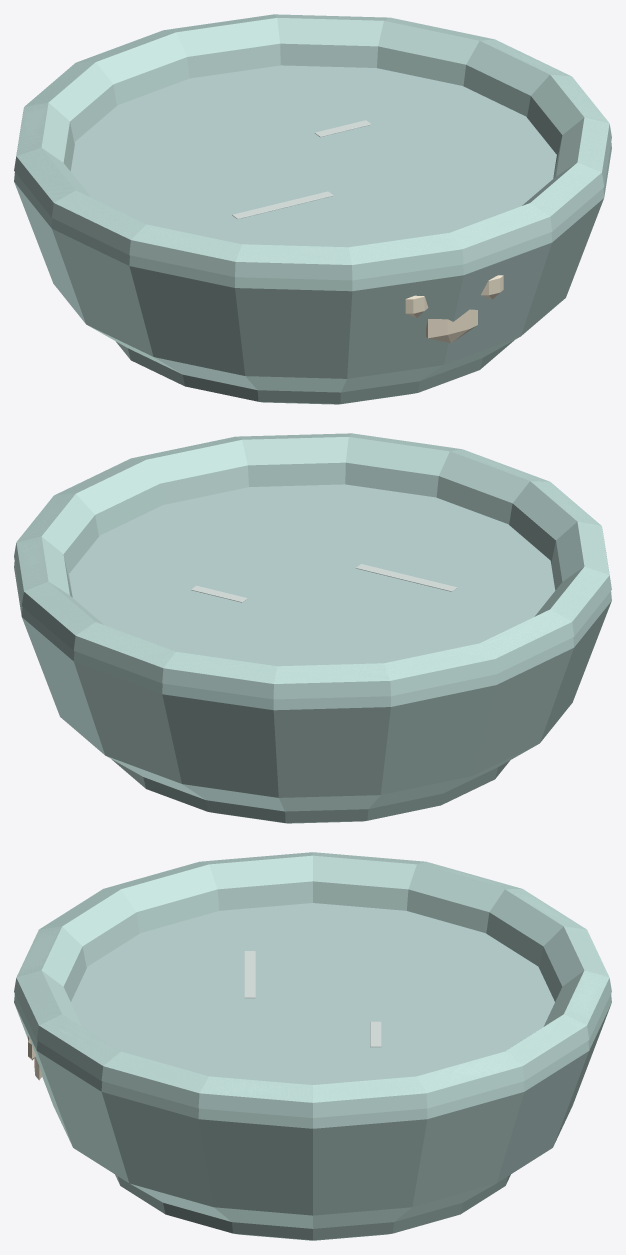
Rendered from crafted-cat-water-5-2.glb.
The picture shows the model from 3 angles, top to bottom: view 1: azimuth 30°, elevation 25°; view 2: azimuth 150°, elevation 25°; view 3: azimuth 270°, elevation 25°; orthographic projection.
Visible parts, largest first — view 1: ceramic-bowl, water-level, glazed-rim, foot-ring, paw-pad, water-glint; view 2: ceramic-bowl, water-level, glazed-rim, foot-ring, water-glint; view 3: ceramic-bowl, water-level, glazed-rim, foot-ring, water-glint.
Part boxes in pixels (x1=…): ceramic-bowl: x1=14, y1=14, x2=611, y2=392; water-level: x1=70, y1=65, x2=556, y2=247; glazed-rim: x1=14, y1=14, x2=611, y2=280; foot-ring: x1=116, y1=340, x2=514, y2=404; paw-pad: x1=426, y1=309, x2=477, y2=343; water-glint: x1=232, y1=191, x2=333, y2=219; ceramic-bowl: x1=14, y1=433, x2=611, y2=811; water-level: x1=69, y1=484, x2=555, y2=666; glazed-rim: x1=14, y1=433, x2=611, y2=699; foot-ring: x1=111, y1=759, x2=509, y2=823; water-glint: x1=356, y1=564, x2=457, y2=591; ceramic-bowl: x1=14, y1=852, x2=611, y2=1228; water-level: x1=71, y1=903, x2=554, y2=1084; glazed-rim: x1=14, y1=852, x2=611, y2=1117; foot-ring: x1=115, y1=1174, x2=510, y2=1240; water-glint: x1=244, y1=951, x2=255, y2=998.
Bounding box in the file's own units: 0.76 × 0.265 × 0.76.
